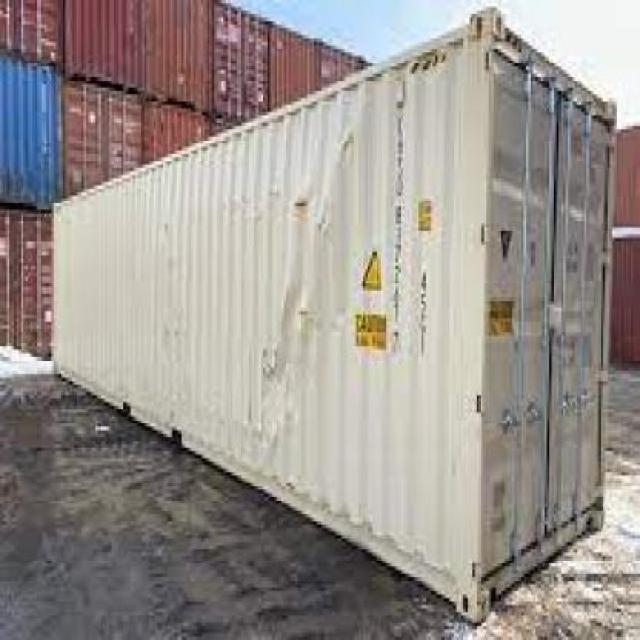hole: (292, 195, 310, 226)
